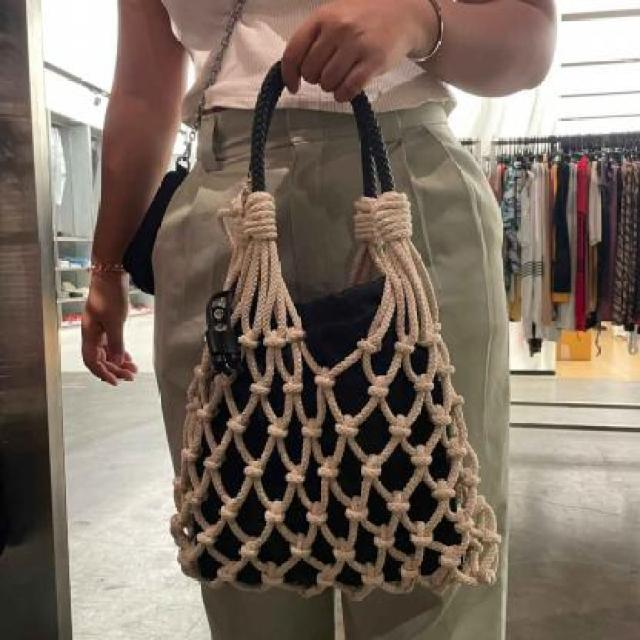Bag: (194, 50, 518, 628)
